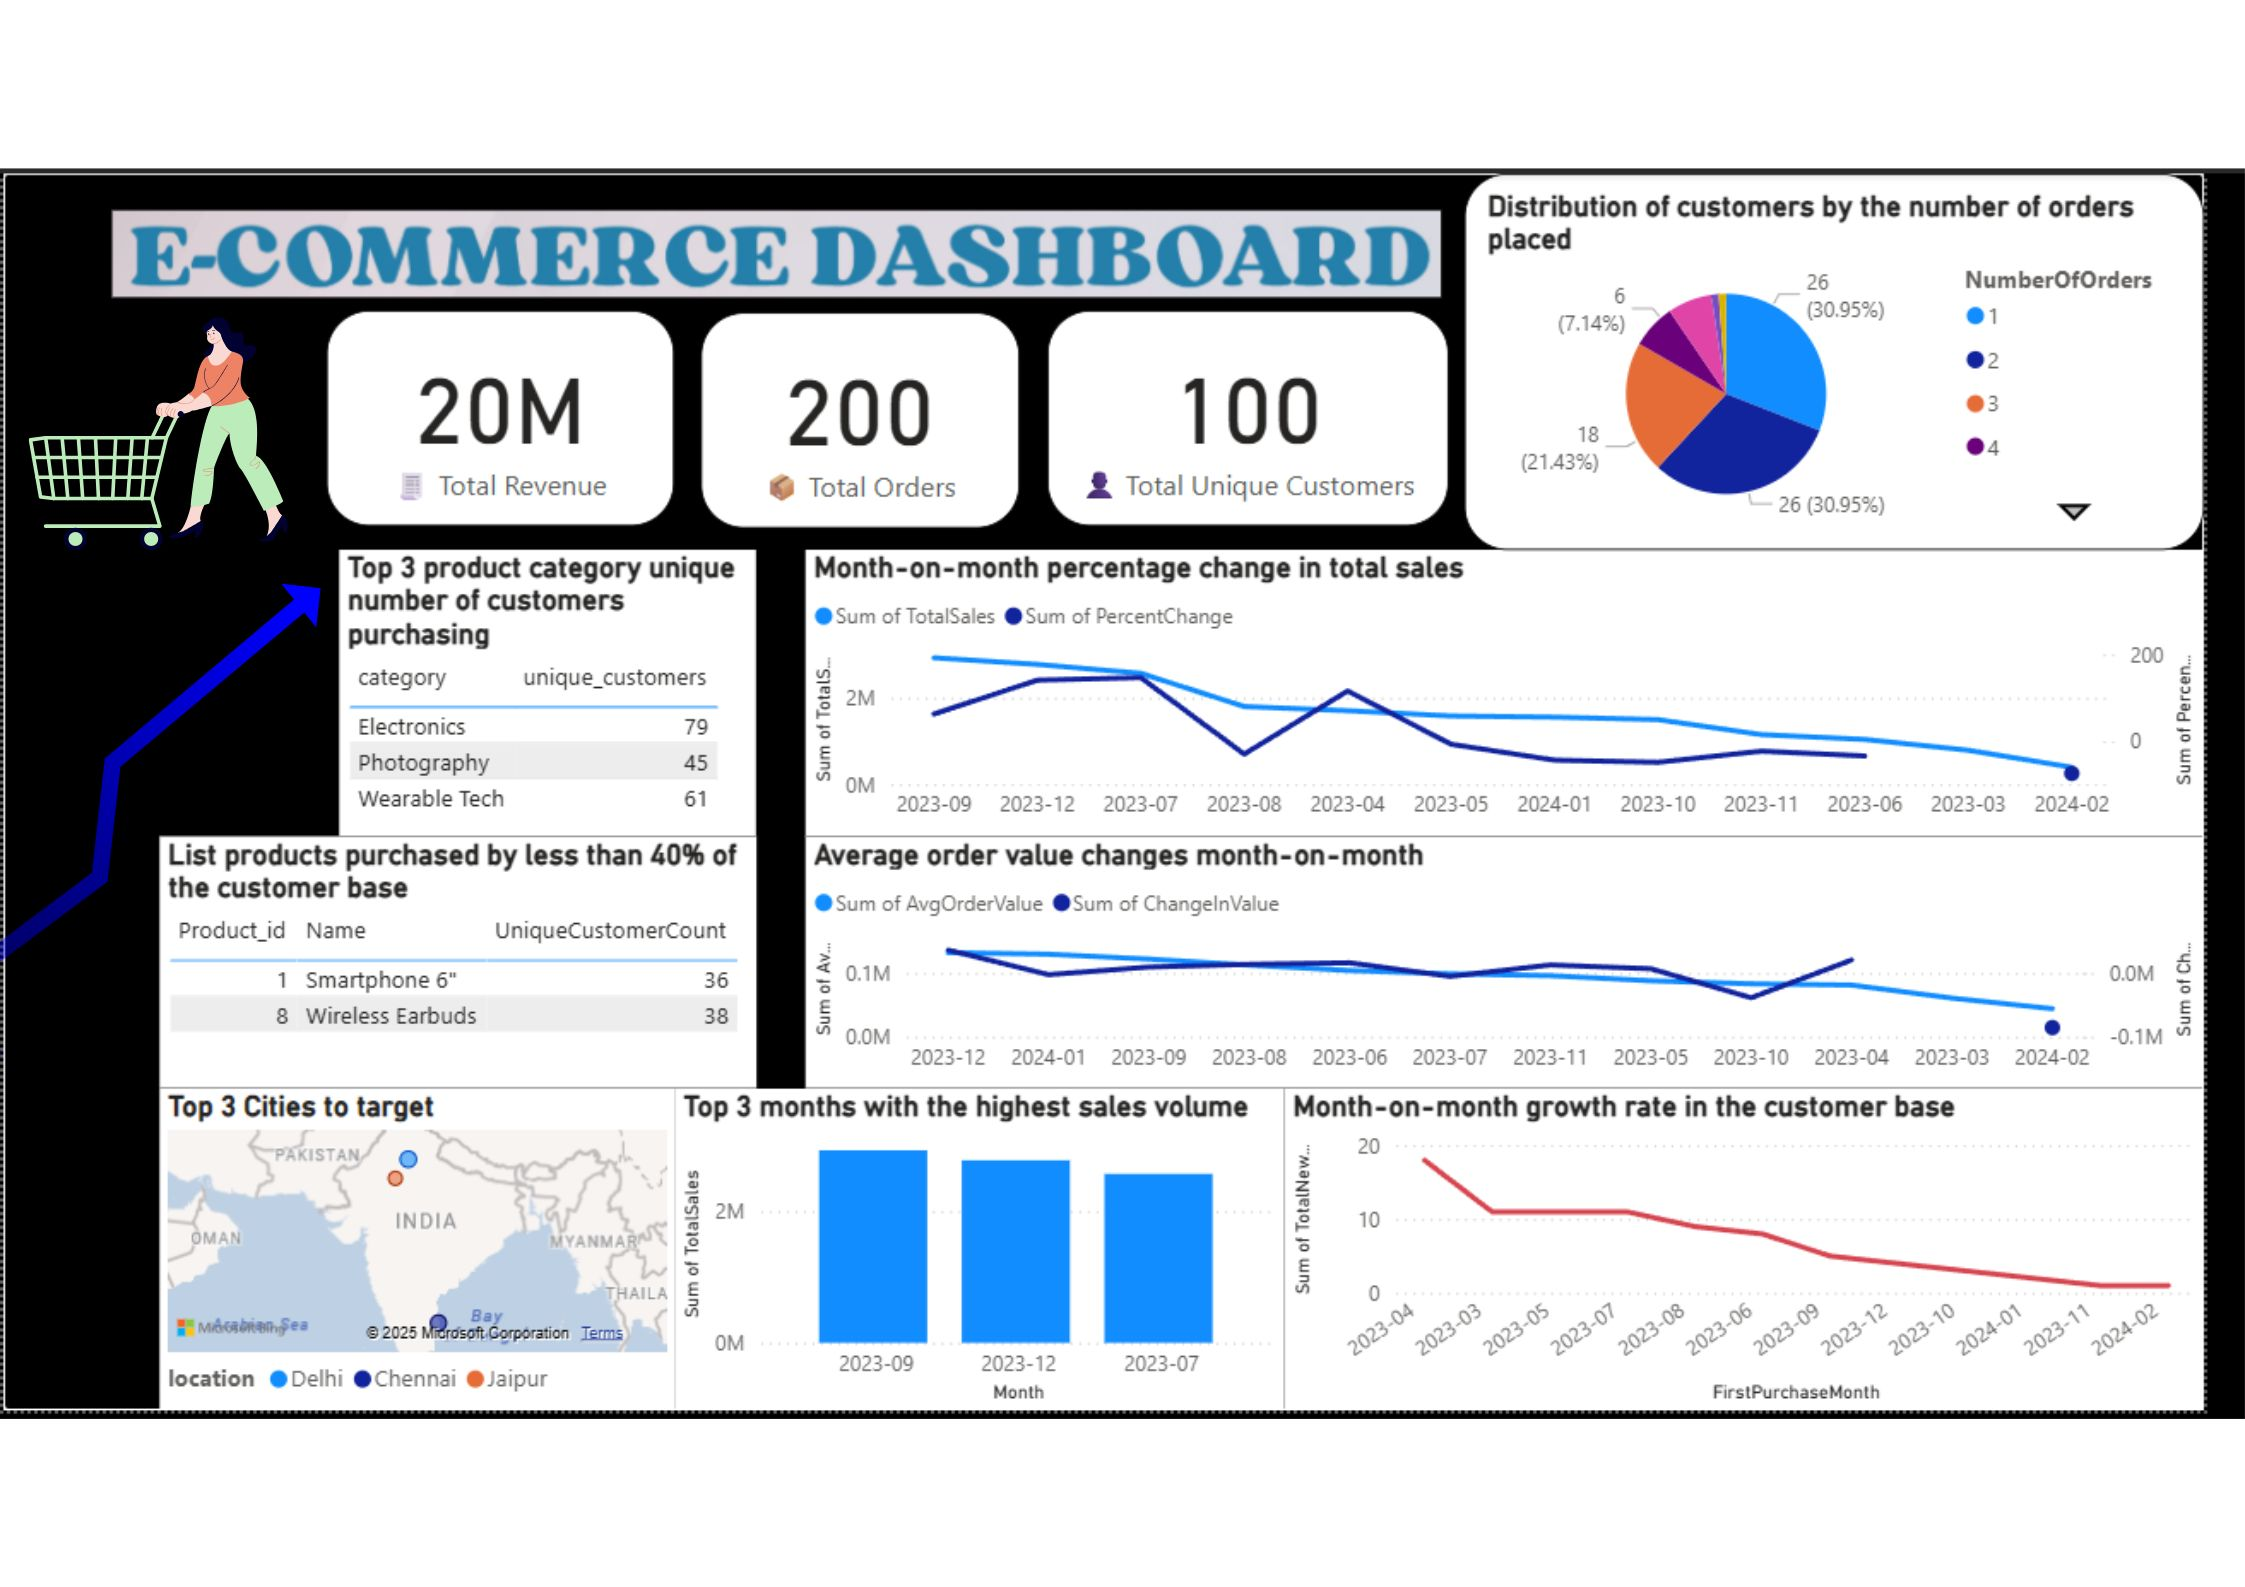

What the dashboard file says about the page in this screenshot:
{"tool":"powerbi","page":{"name":"Page 1","canvas":[1280,720],"ordinal":0},"visuals":[{"type":"card","fields":{"Values":["OrderDetails.Total Revenue"]},"box":[241.3,93.3,187.8,112],"z":0},{"type":"card","fields":{"Values":["Order.Total Orders"]},"box":[437.9,93.3,185.3,112],"z":1},{"type":"card","fields":{"Values":["Customer.👤 Total Unique Customers"]},"box":[630.7,93.3,210.2,112],"z":2},{"type":"map","title":"Top 3 Cities to target","fields":{"Category":["Top 3 Cities.location"],"Size":["Sum(Top 3 Cities.number_of_customers)"],"Series":["Top 3 Cities.location"]},"box":[90.8,532.4,299.8,187.8],"z":3},{"type":"clusteredColumnChart","title":"Top 3  months with the highest sales volume","fields":{"Category":["months with the highest sales volume.Month"],"Y":["Sum(months with the highest sales volume.TotalSales)"]},"box":[390.6,532.4,354.5,187.8],"z":4},{"type":"lineChart","title":"Month-on-month growth rate in the customer base","fields":{"Category":["month-on-month growth rate in the customer base.FirstPurchaseMonth"],"Y":["Sum(month-on-month growth rate in the customer base.TotalNewCustomers)"]},"box":[745.1,532.4,534.9,187.8],"z":5},{"type":"tableEx","title":"List products purchased by less than 40% of the customer base","fields":{"Values":["List products purchased by less than 40% of the customer base.Product_id","List products purchased by less than 40% of the customer base.Name","List products purchased by less than 40% of the customer base.UniqueCustomerCount"]},"box":[90.8,385.6,347.1,146.8],"z":6},{"type":"lineChart","title":"Average order value changes month-on-month","fields":{"Category":["Average order value changes month-on-month.Month"],"Y":["Sum(Average order value changes month-on-month.AvgOrderValue)"],"Y2":["Sum(Average order value changes month-on-month.ChangeInValue)"]},"box":[466.5,385.6,813.5,146.8],"z":7},{"type":"lineChart","title":"Month-on-month percentage change in total sales ","fields":{"Category":["Month-on-month percentage change in total sales.Month"],"Y":["Sum(Month-on-month percentage change in total sales.TotalSales)"],"Y2":["Sum(Month-on-month percentage change in total sales.PercentChange)"]},"box":[466.5,218.9,813.5,166.7],"z":8},{"type":"tableEx","title":"Top 3 product category unique number of customers purchasing ","fields":{"Values":["Each product category unique number of customers purchasing.category","Each product category unique number of customers purchasing.unique_customers"]},"box":[195.3,218.9,242.6,166.7],"z":9},{"type":"pieChart","title":"Distribution of customers by the number of orders placed","fields":{"Series":["Distribution of customers by the number of orders placed.CustomerCount"],"Y":["Sum(Distribution of customers by the number of orders placed.CustomerCount)"],"Category":["Distribution of customers by the number of orders placed.NumberOfOrders"]},"box":[849.6,0,430.4,218.9],"z":10},{"type":"image","box":[46,0,782.5,93.3],"z":11}]}

Visuals, with their boxes in screenshot pixels (x1, y1, x2, y2):
card - OrderDetails.Total Revenue: [406,325,731,519]
card - Order.Total Orders: [746,325,1066,519]
card - Customer.👤 Total Unique Customers: [1079,325,1443,519]
"Top 3 Cities to target" map: [145,1085,664,1409]
"Top 3  months with the highest sales volume" clusteredColumnChart: [664,1085,1277,1409]
"Month-on-month growth rate in the customer base" lineChart: [1277,1085,2202,1409]
"List products purchased by less than 40% of the customer base" tableEx: [145,831,746,1085]
"Average order value changes month-on-month" lineChart: [795,831,2202,1085]
"Month-on-month percentage change in total sales " lineChart: [795,542,2202,831]
"Top 3 product category unique number of customers purchasing " tableEx: [326,542,746,831]
"Distribution of customers by the number of orders placed" pieChart: [1458,164,2202,542]
image: [68,164,1421,325]
